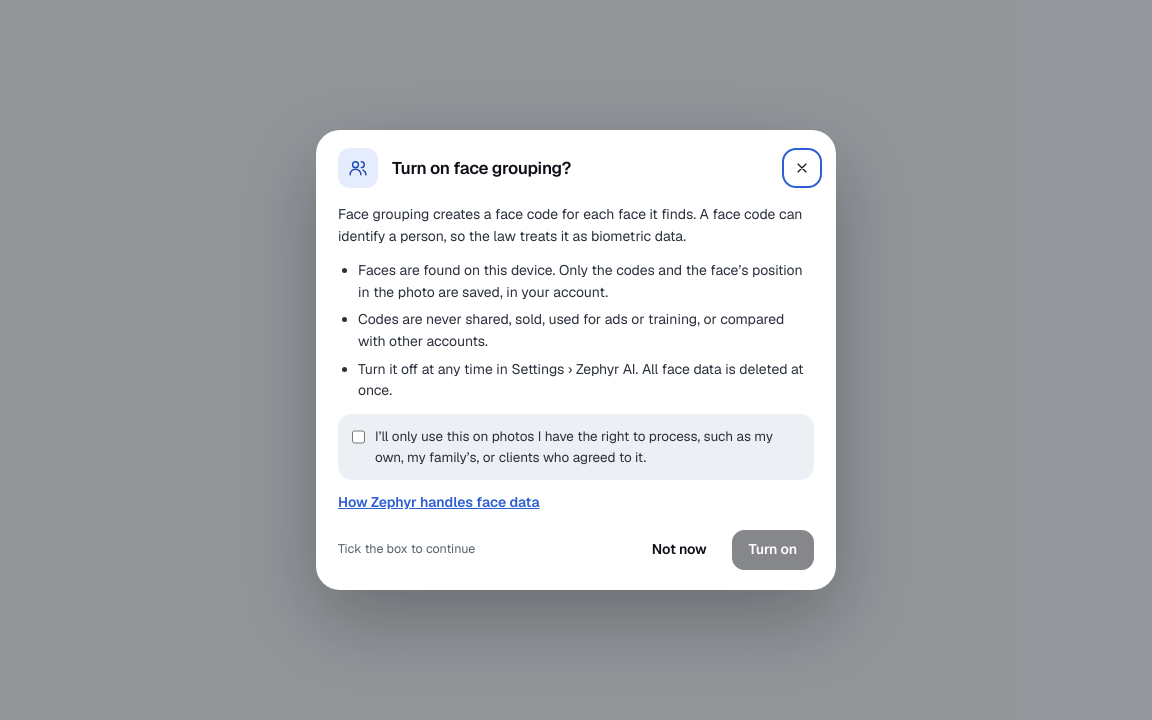
Test: face-grouping consent › keeps Turn on disabled until the box is ticked and sends the consent version
The width and height of the screenshot is (1152, 720).
Later steps or results of the test are not shown.
Expected: the text "the law treats it as biometric data" is shown, [338,206,802,245]
Expected: the button "Turn on" is disabled, [732,530,814,570]
Click the checkbox: [358, 437] box [352,429,365,445]
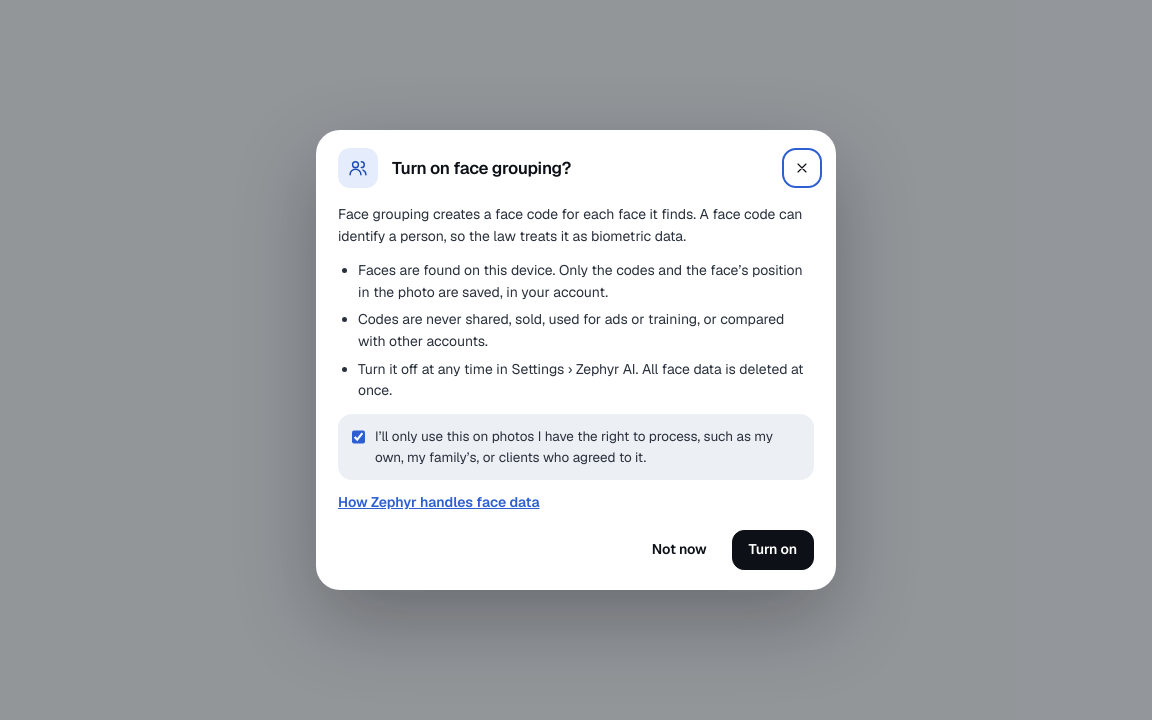
Expected: the button "Turn on" is enabled, [732,530,814,570]
